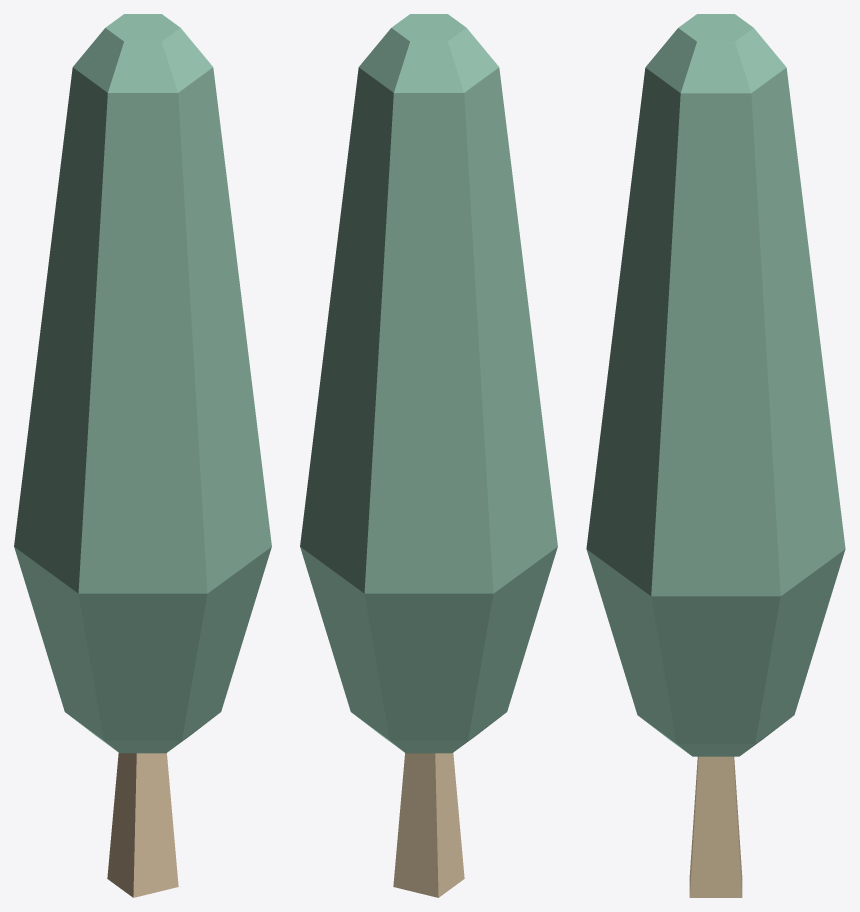
Rendered from tree.gltf.
3 views of the same model, side by side, from view 1: azimuth 30°, elevation 25°; view 2: azimuth 150°, elevation 25°; view 3: azimuth 270°, elevation 25° (orthographic).
Parts seen in each view (by area): view 1: treeLarge; view 2: treeLarge; view 3: treeLarge.
Part boxes in pixels (left/top/right/bottom): treeLarge: left=14, top=14, right=271, bottom=897; treeLarge: left=300, top=14, right=557, bottom=897; treeLarge: left=586, top=14, right=845, bottom=897.
Bounding box in the file's own units: 0.9349 × 3.95 × 1.08.
